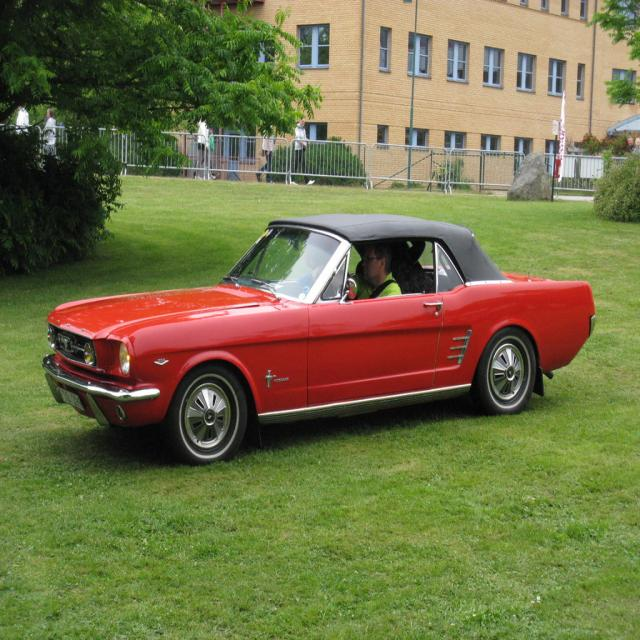car: (41, 211, 598, 464)
